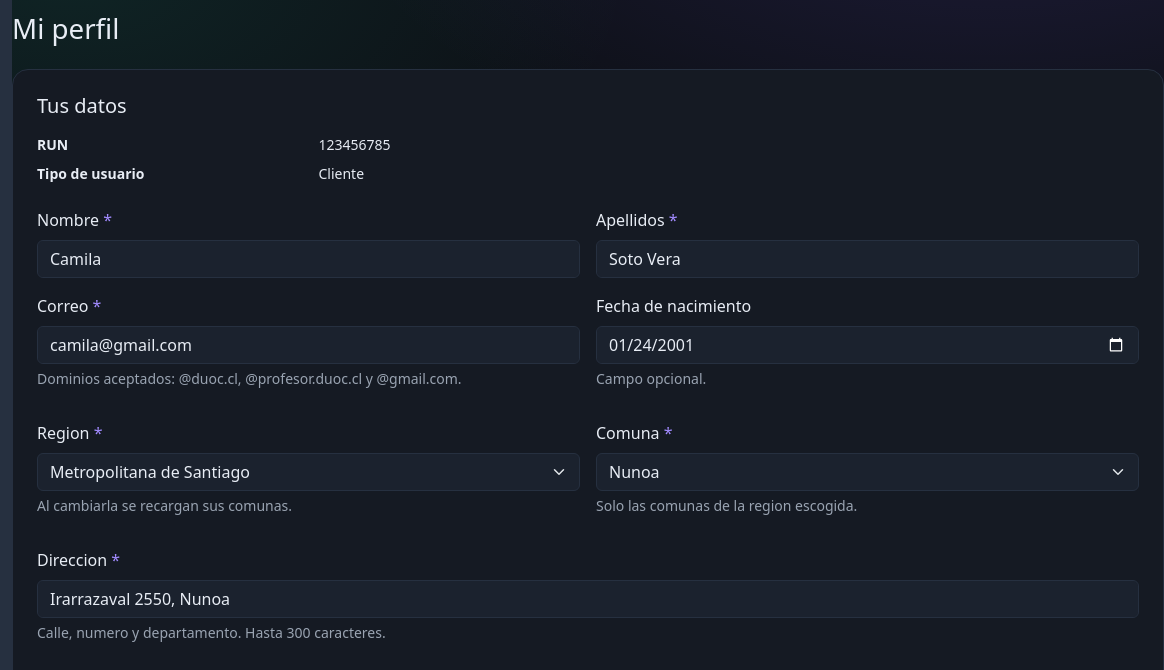
Test: Perfil › cambiar la region recarga las comunas y exige escoger una
This screenshot has width=1164, height=670.
Select "Biobio" in the dropdown labelled "Region *": (308, 472) [37, 453, 580, 491]
(page scrolled)
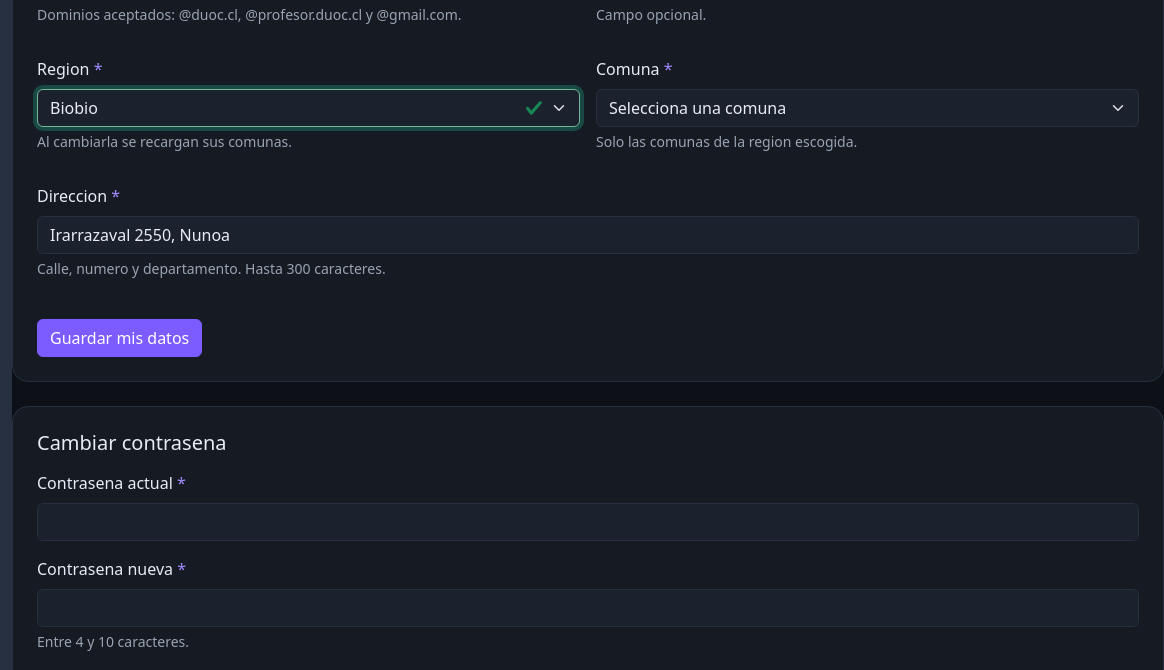
Now the dropdown labelled "Comuna *" shows "Selecciona una comuna", box [596, 89, 1139, 127]
Click the button "Guardar mis datos": click(120, 338) [37, 319, 202, 357]
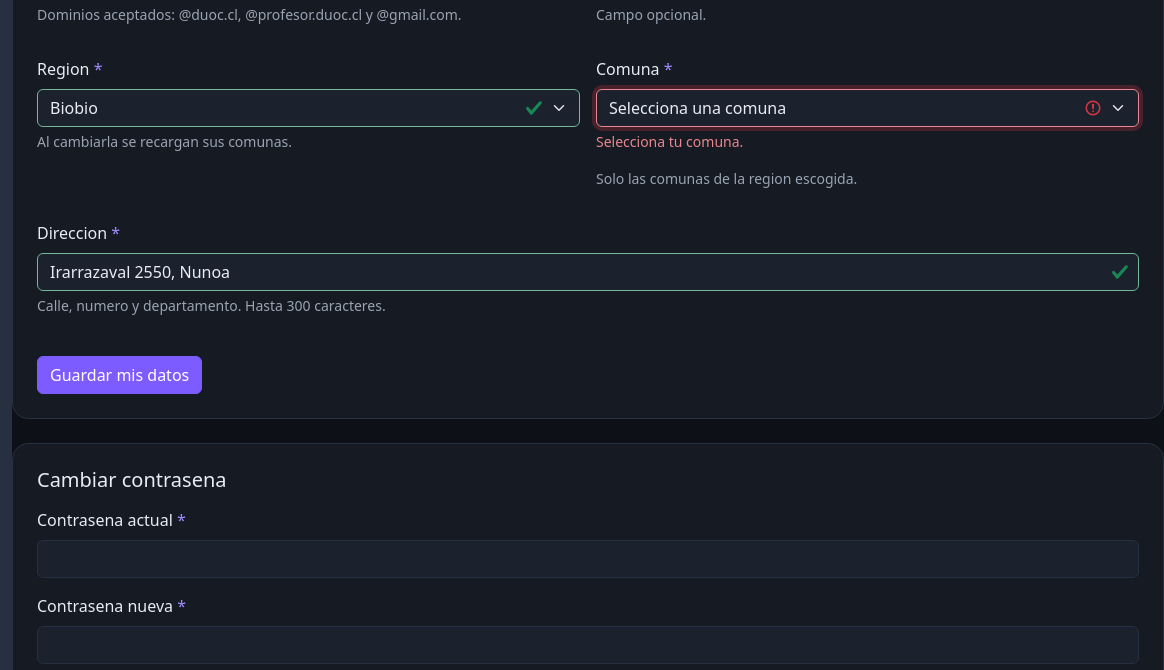
Now the text "Selecciona tu comuna." is shown, box [596, 132, 743, 151]
